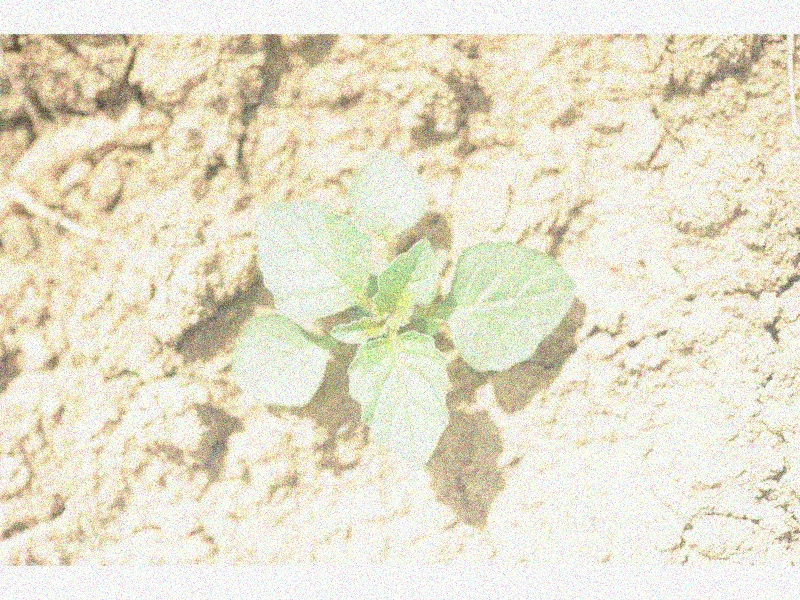nightshade: (234, 149, 574, 467)
